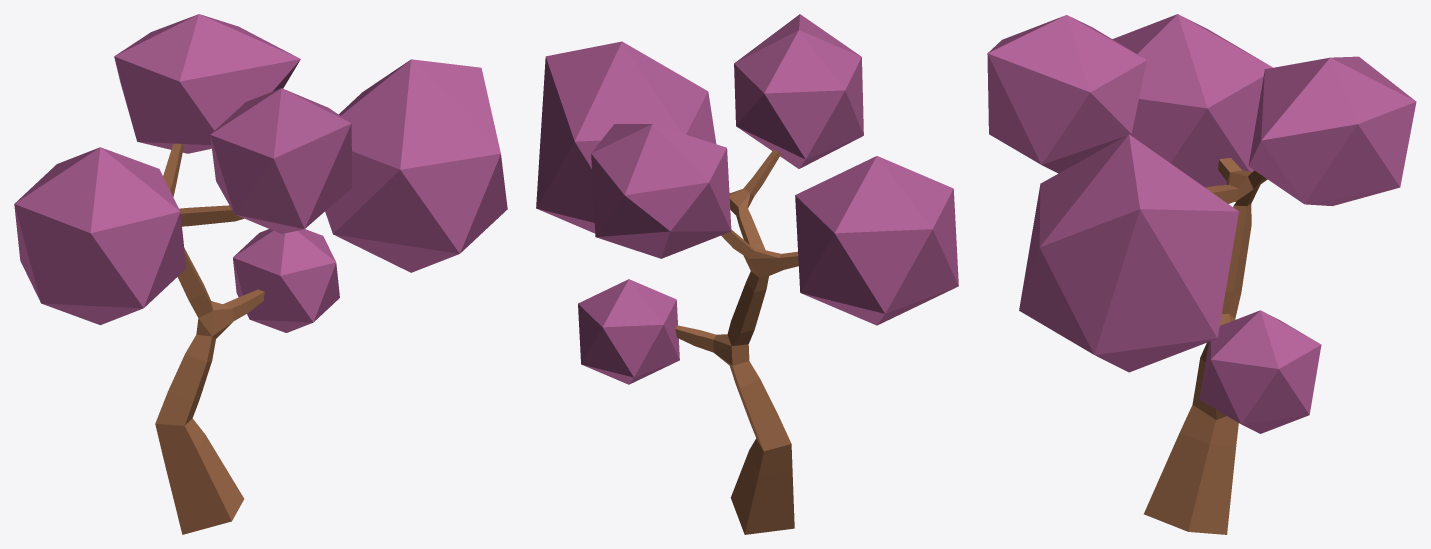
File: ArbolCereza.fbx
3 views of the same model, side by side, from view 1: azimuth 30°, elevation 25°; view 2: azimuth 150°, elevation 25°; view 3: azimuth 270°, elevation 25° (orthographic). The views are drawn at different scales.
Parts seen in each view (by area): view 1: Hojas de Arbol7, Hojas de Arbol9, Hojas de Arbol8, Hojas de Arbol10, Rama De Arbol2, Hojas de Arbol6; view 2: Hojas de Arbol9, Hojas de Arbol7, Hojas de Arbol8, Hojas de Arbol10, Rama De Arbol2, Hojas de Arbol6; view 3: Hojas de Arbol7, Hojas de Arbol8, Hojas de Arbol10, Hojas de Arbol9, Rama De Arbol2, Hojas de Arbol6.
Boxes of the visible parts, x1=… form: Hojas de Arbol7: x1=325, y1=59, x2=507, y2=272; Hojas de Arbol9: x1=14, y1=147, x2=186, y2=325; Hojas de Arbol8: x1=114, y1=14, x2=300, y2=153; Hojas de Arbol10: x1=210, y1=88, x2=352, y2=233; Rama De Arbol2: x1=155, y1=143, x2=264, y2=534; Hojas de Arbol6: x1=233, y1=229, x2=339, y2=332; Hojas de Arbol9: x1=795, y1=156, x2=958, y2=325; Hojas de Arbol7: x1=536, y1=41, x2=716, y2=233; Hojas de Arbol8: x1=591, y1=124, x2=731, y2=258; Hojas de Arbol10: x1=734, y1=14, x2=863, y2=168; Rama De Arbol2: x1=675, y1=149, x2=798, y2=534; Hojas de Arbol6: x1=578, y1=279, x2=679, y2=384; Hojas de Arbol7: x1=1019, y1=134, x2=1238, y2=372; Hojas de Arbol8: x1=1248, y1=56, x2=1416, y2=206; Hojas de Arbol10: x1=987, y1=15, x2=1146, y2=173; Hojas de Arbol9: x1=1112, y1=14, x2=1272, y2=187; Rama De Arbol2: x1=1144, y1=158, x2=1267, y2=534; Hojas de Arbol6: x1=1199, y1=310, x2=1321, y2=433.
Size of the model in its own units: 344 by 351 by 259.
